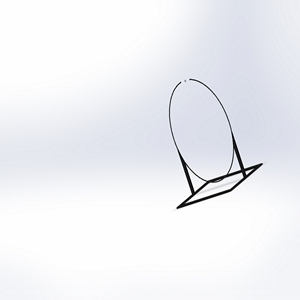circle: (167, 77, 262, 209)
